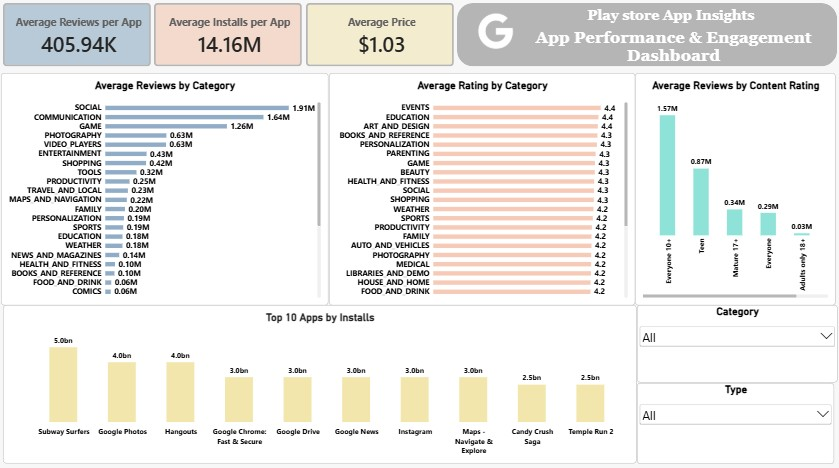

This screenshot's page, from the dashboard's own definition file:
{"tool":"powerbi","page":{"name":"App Performance & Engagement","canvas":[1920,1080],"ordinal":1},"visuals":[{"type":"group","id":"g1","title":"Group 1","box":[1048,8,864,152],"z":0},{"type":"shape","box":[1048,8,864,144],"z":0,"group":"g1"},{"type":"cardVisual","title":"Average Reviews per App","fields":{"Data":["Avg(googleplaystore.Reviews)"]},"box":[16,8,336,144],"z":1000},{"type":"textbox","box":[1336,16,416,48],"z":1000,"group":"g1"},{"type":"cardVisual","title":"Average Reviews per App","fields":{"Data":["Avg(googleplaystore.Installs_Num)"]},"box":[360,8,336,144],"z":2000},{"type":"cardVisual","title":"Average Reviews per App","fields":{"Data":["Avg(googleplaystore.Price)"]},"box":[704,8,336,144],"z":3000},{"type":"image","box":[1096,24,80,96],"z":3000,"group":"g1"},{"type":"textbox","box":[1168,64,744,96],"z":4000,"group":"g1"},{"type":"clusteredBarChart","title":"Average Reviews by Category","fields":{"Category":["googleplaystore.Category"],"Y":["Avg(googleplaystore.Reviews)"]},"box":[12.5,168.2,744,528],"z":4000},{"type":"clusteredBarChart","title":"Average Rating by Category","fields":{"Category":["googleplaystore.Category"],"Y":["Avg(googleplaystore.Rating)"]},"box":[756.5,168.2,696,528],"z":5000},{"type":"clusteredColumnChart","title":"Top 10 Apps by Installs","fields":{"Category":["googleplaystore.App"],"Y":["Sum(googleplaystore.Installs_Num)"]},"box":[16,696,1440,360],"z":6000},{"type":"clusteredColumnChart","title":"Average Reviews by Content Rating","fields":{"Category":["googleplaystore.Content Rating"],"Y":["Avg(googleplaystore.Reviews)"]},"box":[1452.5,168.2,456,528],"z":7000},{"type":"slicer","title":"Category","fields":{"Values":["googleplaystore.Category"]},"box":[1456,696,456,176],"z":8000},{"type":"slicer","title":"Type","fields":{"Values":["googleplaystore.Type"]},"box":[1456,872,448,184],"z":9000}]}

Visuals, with their boxes in screenshot pixels (x1, y1, x2, y2), scaled from the page's 1920x1080 canvas onto the 839x468 screenshot:
"Group 1" group: {"left": 458, "top": 3, "right": 836, "bottom": 69}
shape: {"left": 458, "top": 3, "right": 836, "bottom": 66}
"Average Reviews per App" cardVisual: {"left": 7, "top": 3, "right": 154, "bottom": 66}
textbox: {"left": 584, "top": 7, "right": 766, "bottom": 28}
"Average Reviews per App" cardVisual: {"left": 157, "top": 3, "right": 304, "bottom": 66}
"Average Reviews per App" cardVisual: {"left": 308, "top": 3, "right": 454, "bottom": 66}
image: {"left": 479, "top": 10, "right": 514, "bottom": 52}
textbox: {"left": 510, "top": 28, "right": 836, "bottom": 69}
"Average Reviews by Category" clusteredBarChart: {"left": 5, "top": 73, "right": 331, "bottom": 302}
"Average Rating by Category" clusteredBarChart: {"left": 331, "top": 73, "right": 635, "bottom": 302}
"Top 10 Apps by Installs" clusteredColumnChart: {"left": 7, "top": 302, "right": 636, "bottom": 458}
"Average Reviews by Content Rating" clusteredColumnChart: {"left": 635, "top": 73, "right": 834, "bottom": 302}
"Category" slicer: {"left": 636, "top": 302, "right": 836, "bottom": 378}
"Type" slicer: {"left": 636, "top": 378, "right": 832, "bottom": 458}
